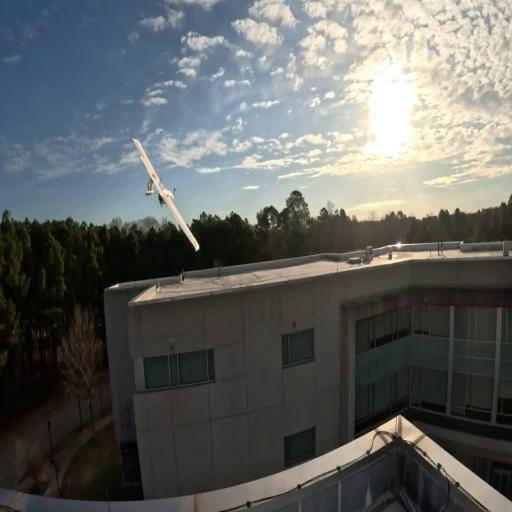uav: (130, 135, 202, 254)
